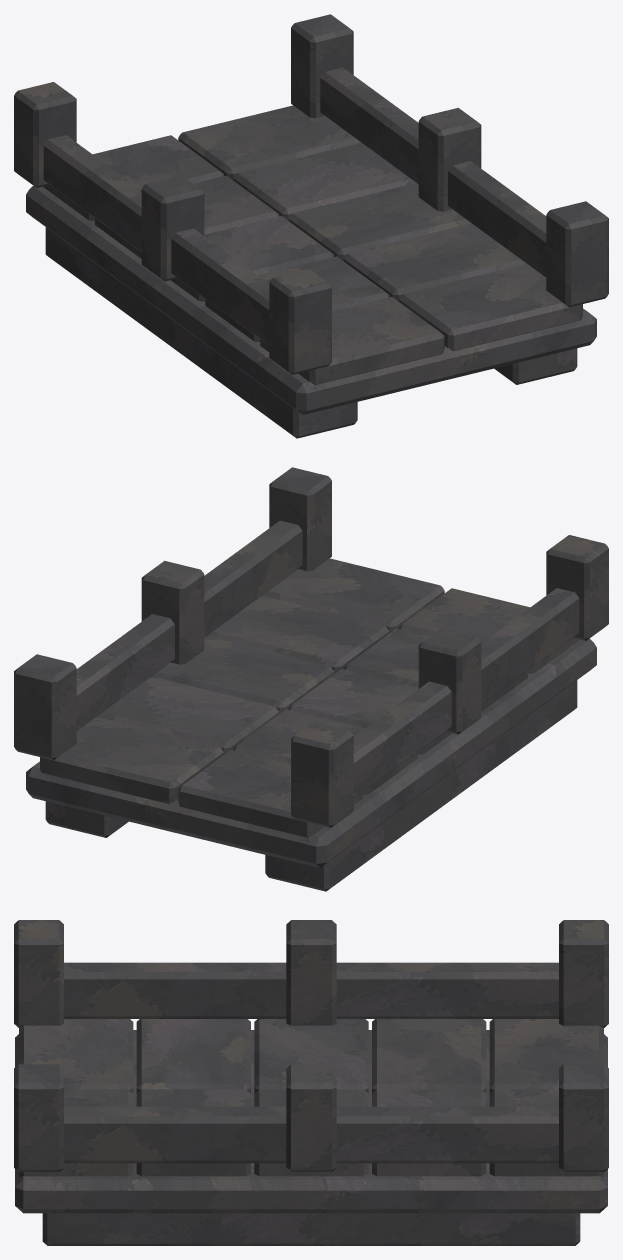
Rendered from bridge-bay.glb.
3 renders of one model, top to bottom at view 1: azimuth 30°, elevation 25°; view 2: azimuth 150°, elevation 25°; view 3: azimuth 270°, elevation 25°, orthographic. The views are drawn at different scales.
Visible parts, largest first — view 1: bridge-bay; view 2: bridge-bay; view 3: bridge-bay.
Part boxes in pixels (x1,y1,x2,y2): bridge-bay: (14,14,608,438); bridge-bay: (14,467,608,891); bridge-bay: (14,920,608,1245).
Bounding box in the file's own units: 2.13 × 1.02 × 3.21.
3 materials, 3 textured.
